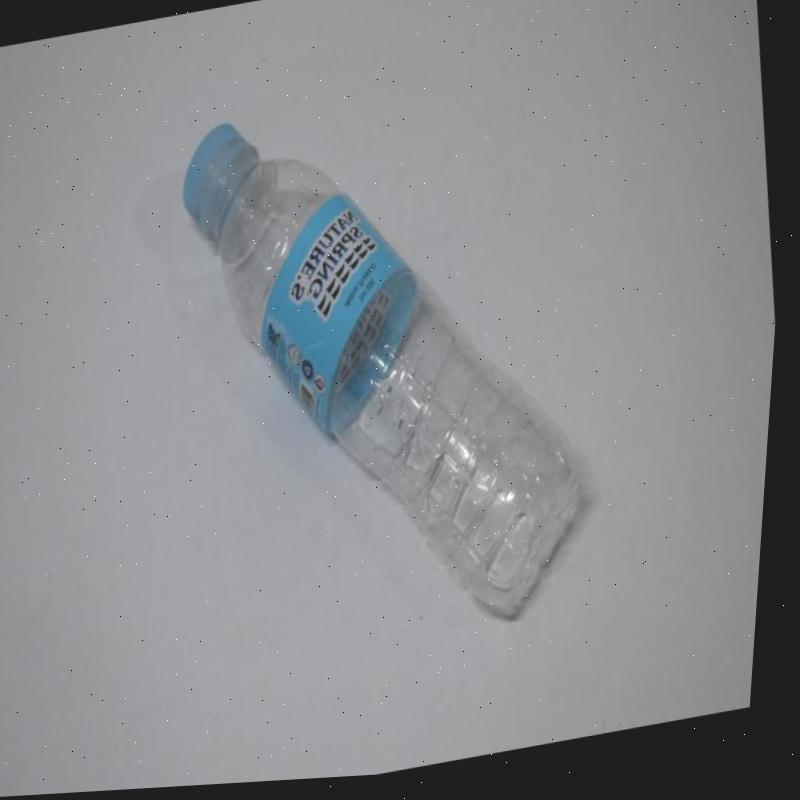botella: (149, 64, 629, 680)
